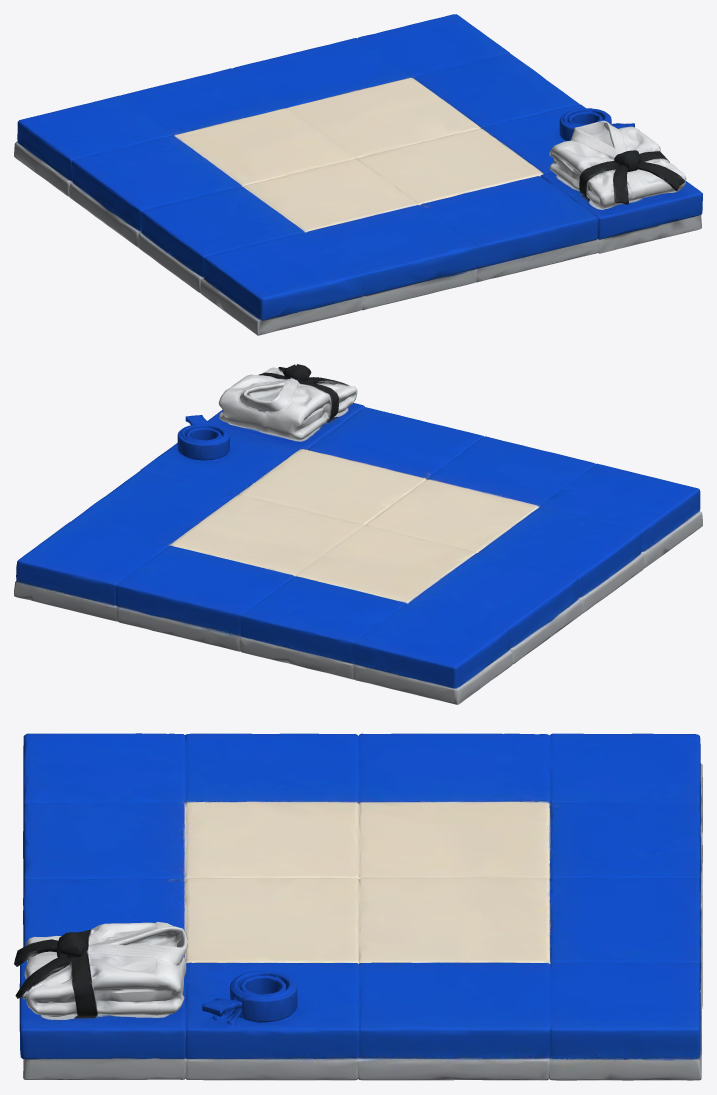
Rendered from judo.glb.
3 views of the same model, one above another, from view 1: azimuth 30°, elevation 25°; view 2: azimuth 150°, elevation 25°; view 3: azimuth 270°, elevation 25° (orthographic). The views are drawn at different scales.
Parts seen in each view (by area): view 1: tripo_node_757863a6-51a1-47ab-bfce-97a04ac1fccf; view 2: tripo_node_757863a6-51a1-47ab-bfce-97a04ac1fccf; view 3: tripo_node_757863a6-51a1-47ab-bfce-97a04ac1fccf.
Boxes of the visible parts, x1,y1,x2,y2 form: tripo_node_757863a6-51a1-47ab-bfce-97a04ac1fccf: (14,14,702,335); tripo_node_757863a6-51a1-47ab-bfce-97a04ac1fccf: (14,364,702,704); tripo_node_757863a6-51a1-47ab-bfce-97a04ac1fccf: (14,733,702,1080).
Bounding box in the file's own units: 1 × 0.1681 × 0.9663.
1 material, 1 textured.
